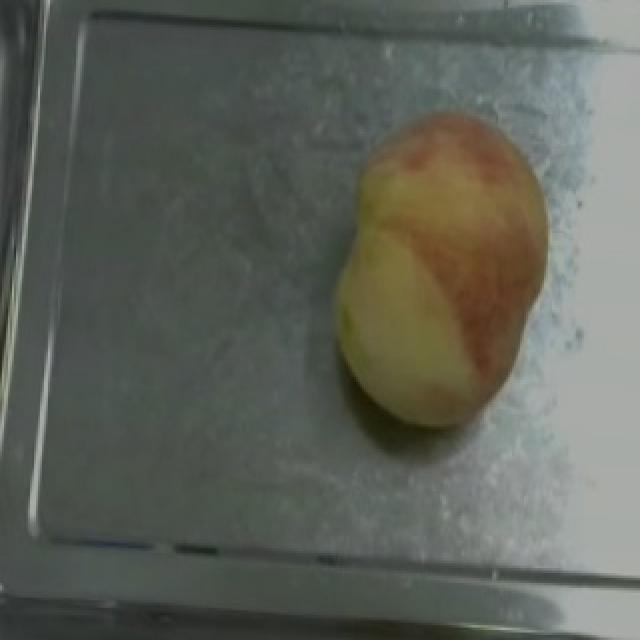Fruit: (318, 106, 564, 442)
